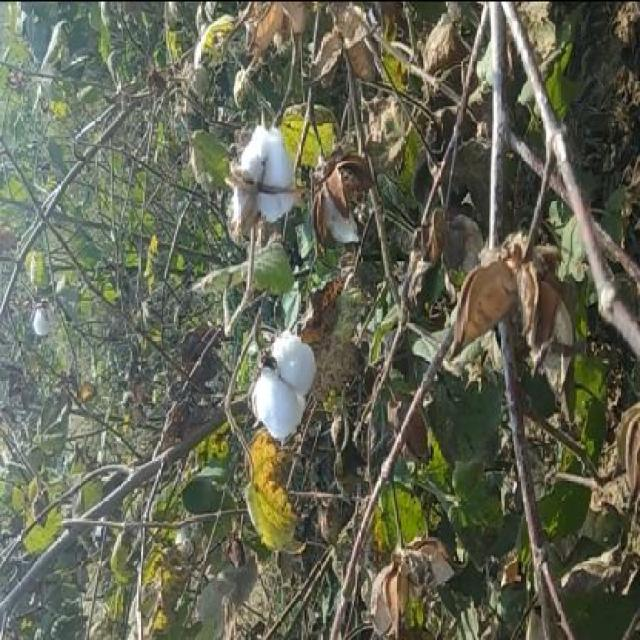cotton_ready: (238, 304, 328, 465), (222, 107, 313, 245)
